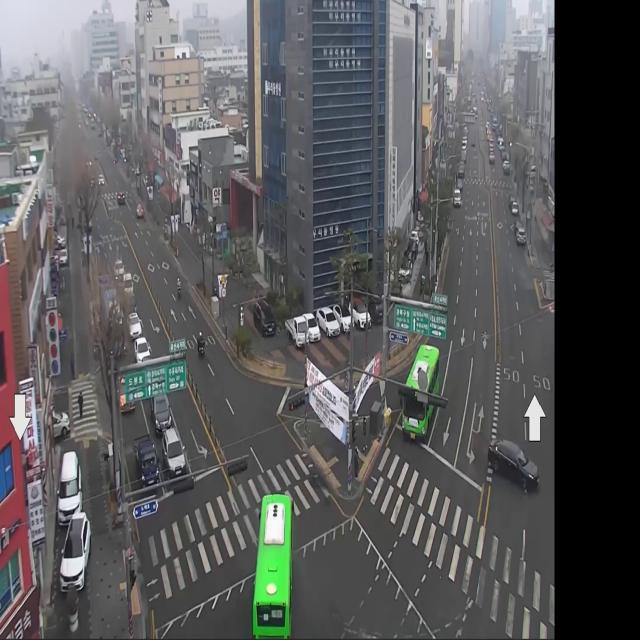bus: (198, 329, 206, 360), (176, 277, 182, 301)
car: (251, 494, 294, 640), (401, 343, 440, 444), (100, 286, 125, 355)
motorcycle: (488, 436, 539, 494), (163, 429, 186, 482), (151, 392, 171, 430), (116, 373, 136, 411), (134, 337, 150, 363), (128, 314, 142, 338), (124, 293, 138, 313), (123, 274, 134, 292), (114, 260, 124, 278), (516, 228, 526, 244), (137, 202, 144, 222), (454, 189, 461, 207), (117, 192, 125, 206), (514, 221, 523, 232), (512, 202, 518, 215), (306, 322, 308, 361), (509, 196, 516, 207)
truck: (132, 435, 160, 490)
